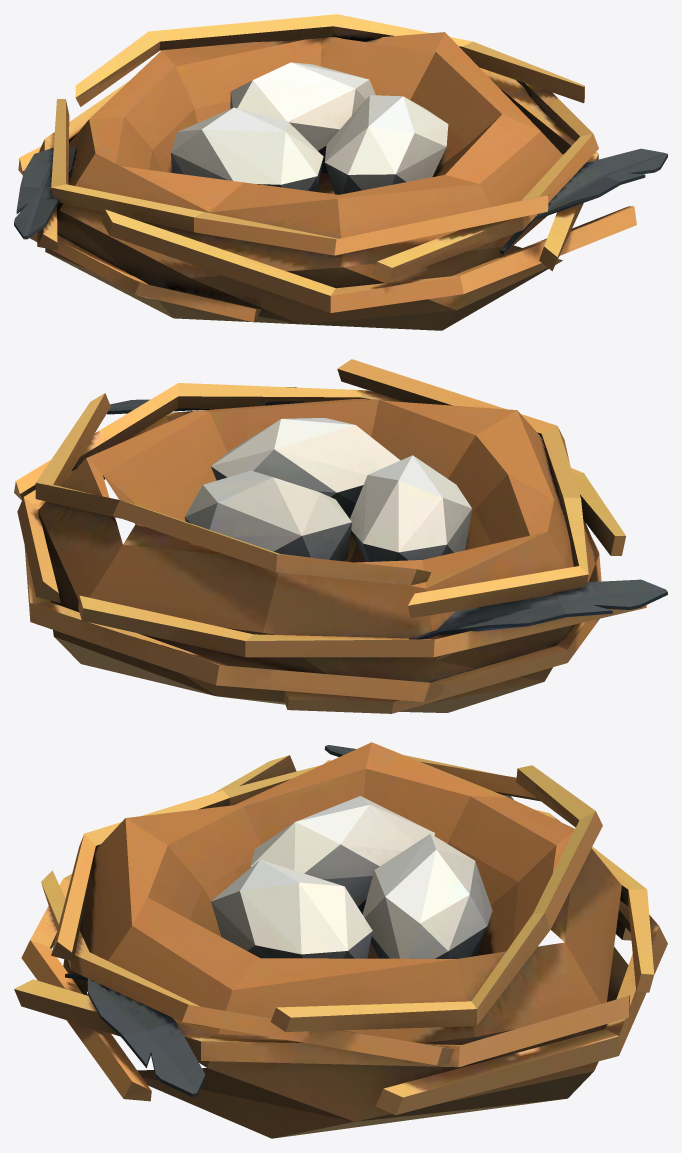
File: fq_bAKD1Khg.glb
3 renders of one model, top to bottom at view 1: azimuth 30°, elevation 25°; view 2: azimuth 150°, elevation 25°; view 3: azimuth 270°, elevation 25°, orthographic. The views are drawn at different scales.
Visible parts, largest first — view 1: birds_nest; view 2: birds_nest; view 3: birds_nest.
Part boxes in pixels (box(x1,y1,x2,y2)): birds_nest: box(14, 14, 667, 330); birds_nest: box(14, 359, 667, 713); birds_nest: box(14, 742, 667, 1138).
Size of the model in its own units: 3.33 by 1 by 2.8.
Materials: 1 (1 with a texture image).
